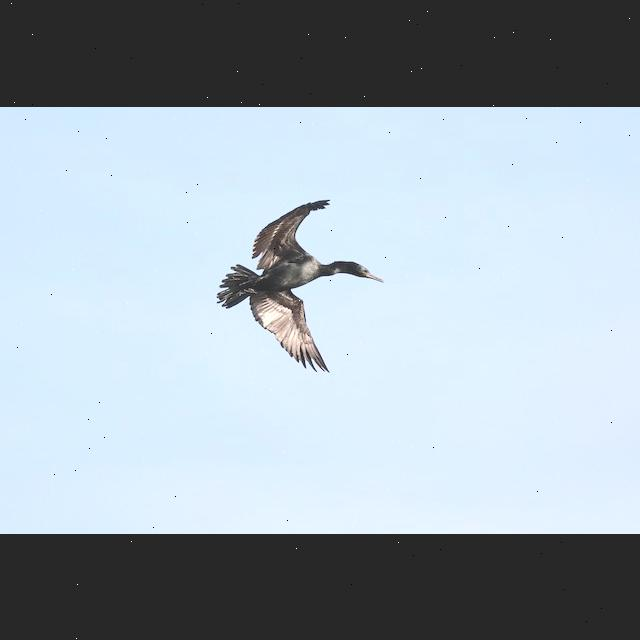cormorant: (212, 192, 384, 368)
